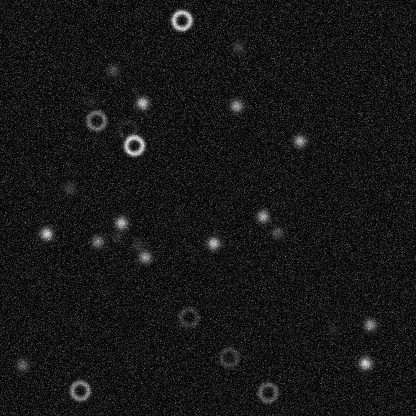Ring: (84, 108, 108, 132), (255, 380, 279, 404), (176, 305, 200, 329), (115, 116, 139, 140), (67, 378, 91, 402), (216, 345, 240, 369), (169, 8, 193, 32), (121, 133, 145, 157)
Spot: (104, 62, 120, 78), (134, 94, 150, 110), (38, 225, 54, 241), (107, 227, 123, 243), (228, 97, 244, 113), (129, 237, 145, 253), (357, 355, 373, 371), (268, 224, 284, 240), (361, 316, 377, 332), (81, 93, 97, 109), (89, 233, 105, 249), (325, 321, 341, 337), (291, 132, 307, 148), (230, 38, 246, 54), (14, 357, 30, 373), (113, 214, 129, 230), (254, 208, 270, 224), (137, 249, 153, 265), (205, 235, 221, 251), (61, 179, 77, 195)
